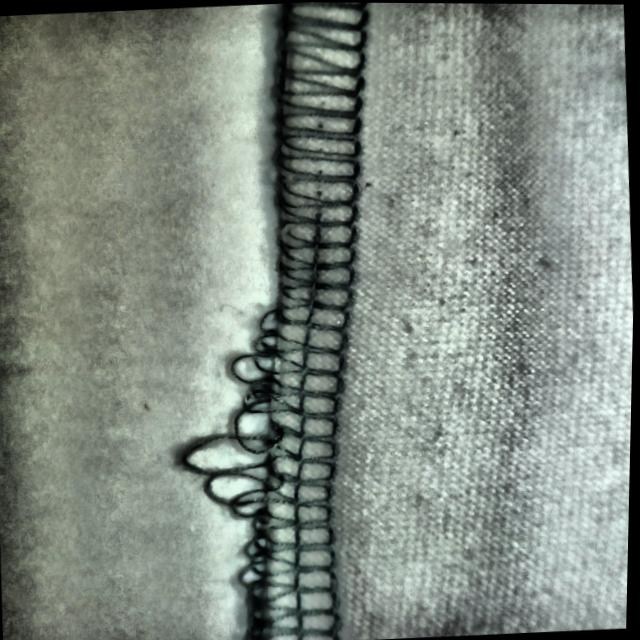Stitch: (169, 302, 370, 608)
